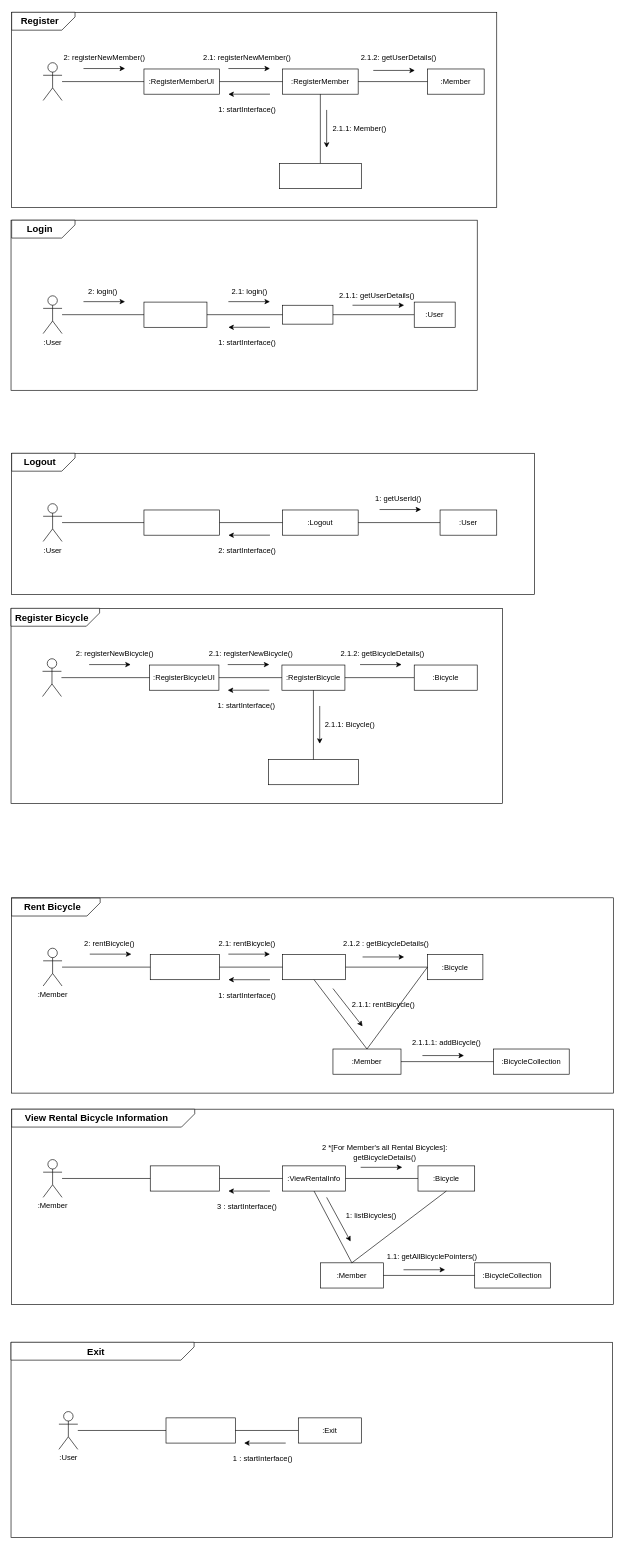
This 624x1549 diagram has some shape labels left out. The shapes that lost their labels are listed below. From the top down, each one's box as (x1, y1, x2, y2) in pixels, then its label:
(43, 62, 62, 100): :Guest
(279, 163, 361, 189): newMember:Member
(143, 301, 207, 327): :Login UI
(282, 305, 333, 324): :Login
(143, 509, 220, 535): :LogoutUI
(42, 658, 61, 697): :Admin
(268, 759, 358, 785): newBicycle:Bicycle
(150, 954, 220, 980): :RentBicycleUI
(282, 954, 346, 980): :RentBicycle
(150, 1165, 220, 1191): :ViewRentalInfoUI
(165, 1417, 235, 1443): :ExitUI
